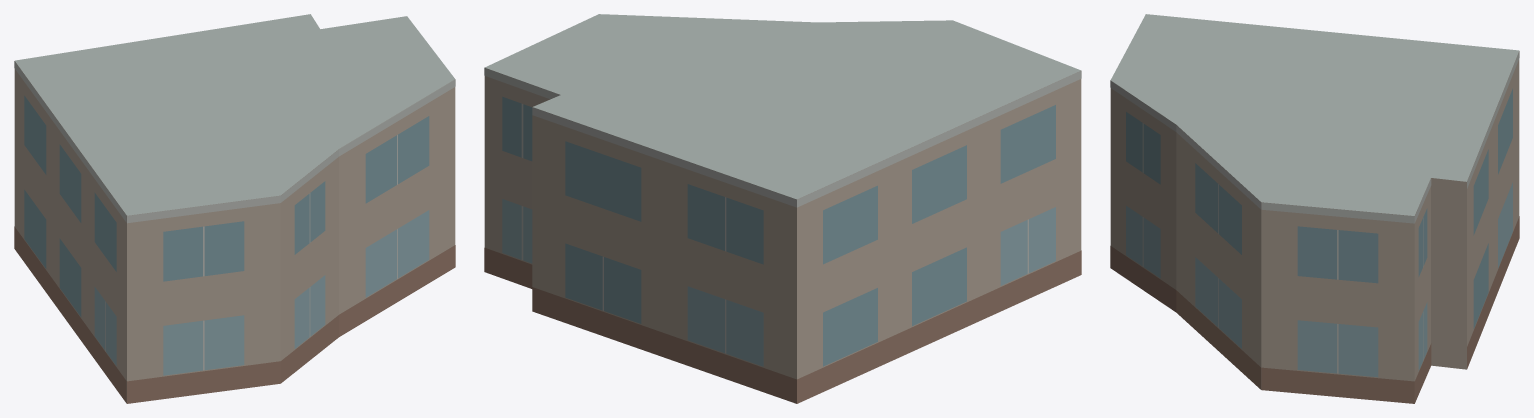
File: survey-upis-32870325.glb
3 views of the same model, side by side, from view 1: azimuth 30°, elevation 25°; view 2: azimuth 150°, elevation 25°; view 3: azimuth 270°, elevation 25° (orthographic). The views are drawn at different scales.
Visible parts, largest first — view 1: survey-upis-32870325.tmp; view 2: survey-upis-32870325.tmp; view 3: survey-upis-32870325.tmp.
Boxes of the visible parts, box(x1,y1,x2,y2) form: survey-upis-32870325.tmp: box(14, 14, 455, 403); survey-upis-32870325.tmp: box(484, 14, 1081, 403); survey-upis-32870325.tmp: box(1110, 14, 1519, 403).
Size of the model in its own units: 14.09 by 6.1 by 12.05.
